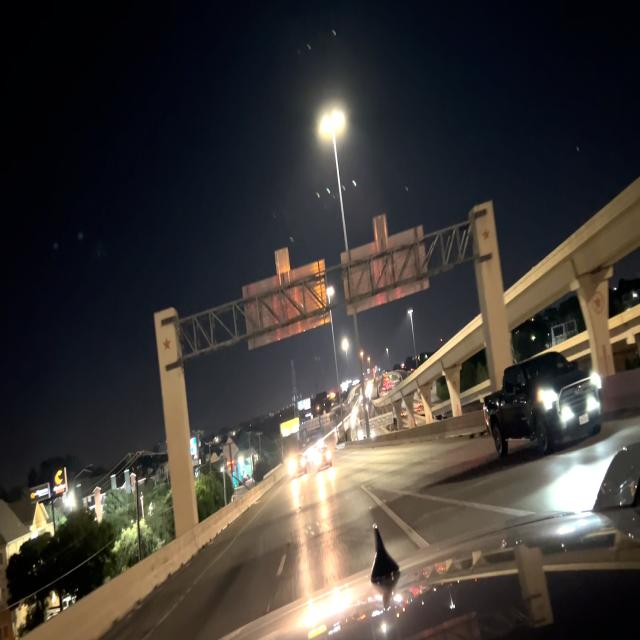back-of-sign: (243, 246, 331, 353), (340, 214, 429, 317), (222, 437, 240, 467)
